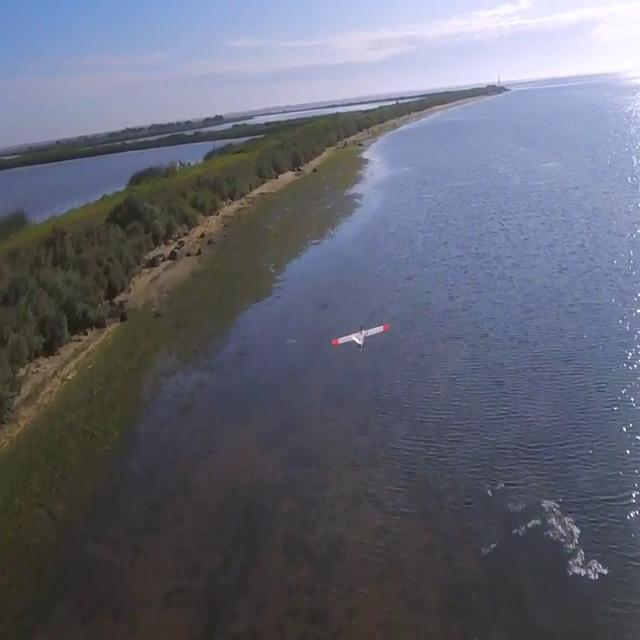iha: (328, 322, 390, 354)
